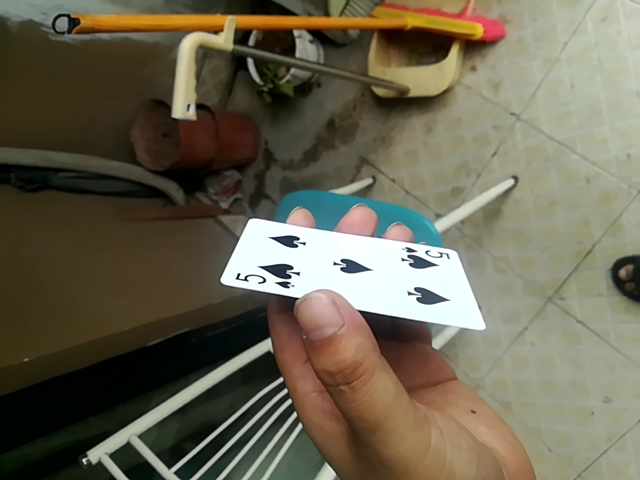ht 5: (218, 215, 487, 324)
